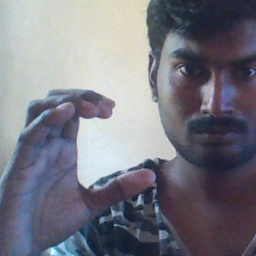C: (12, 85, 160, 210)
